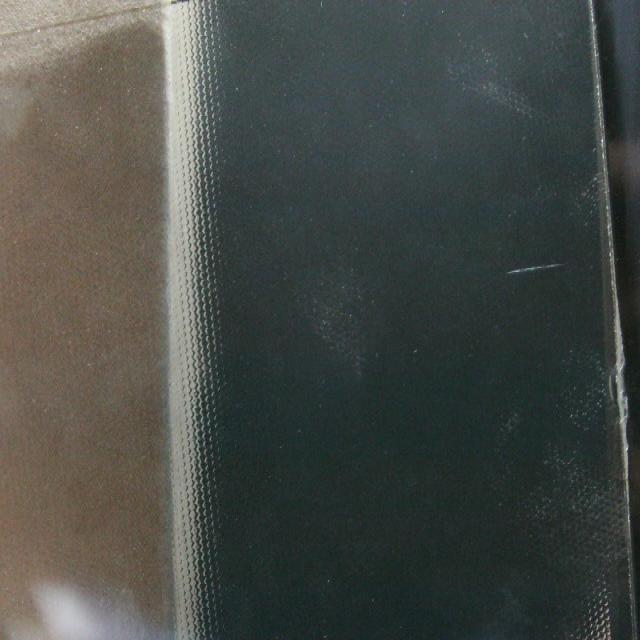edge_chip: (606, 287, 636, 495)
scratch: (500, 252, 568, 286)
